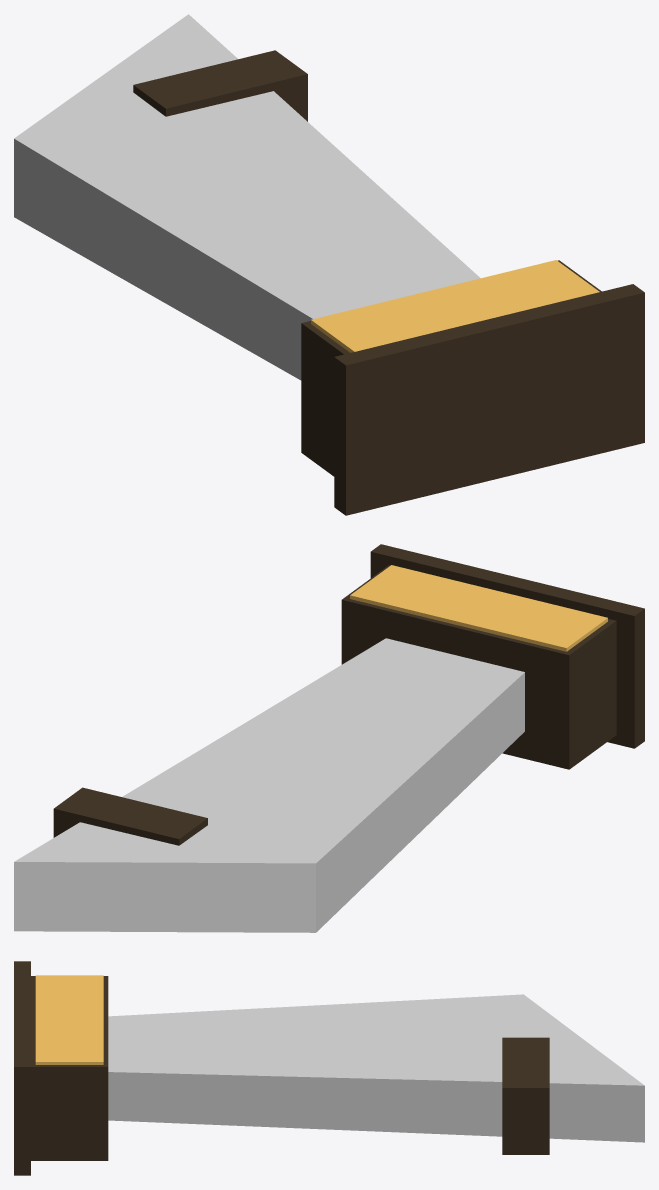
Rendered from glass_trophy.fbx.
The picture shows the model from 3 angles, top to bottom: view 1: azimuth 30°, elevation 25°; view 2: azimuth 150°, elevation 25°; view 3: azimuth 270°, elevation 25°; orthographic projection. The views are drawn at different scales.
Visible parts, largest first — view 1: imagetostl_mesh2, imagetostl_mesh0, imagetostl_mesh1, imagetostl_mesh3; view 2: imagetostl_mesh2, imagetostl_mesh0, imagetostl_mesh1, imagetostl_mesh3; view 3: imagetostl_mesh2, imagetostl_mesh0, imagetostl_mesh1, imagetostl_mesh3.
Part boxes in pixels (x1,y1,x2,y2): imagetostl_mesh2: (14,14,480,380); imagetostl_mesh0: (301,260,644,515); imagetostl_mesh1: (311,260,599,352); imagetostl_mesh3: (133,50,307,121); imagetostl_mesh2: (14,638,524,932); imagetostl_mesh0: (341,544,644,769); imagetostl_mesh1: (350,565,607,651); imagetostl_mesh3: (53,787,207,845); imagetostl_mesh2: (108,994,644,1142); imagetostl_mesh0: (14,961,108,1175); imagetostl_mesh1: (35,975,103,1064); imagetostl_mesh3: (502,1037,549,1154).
Bounding box in the file's own units: 1158 × 555 × 2919.
